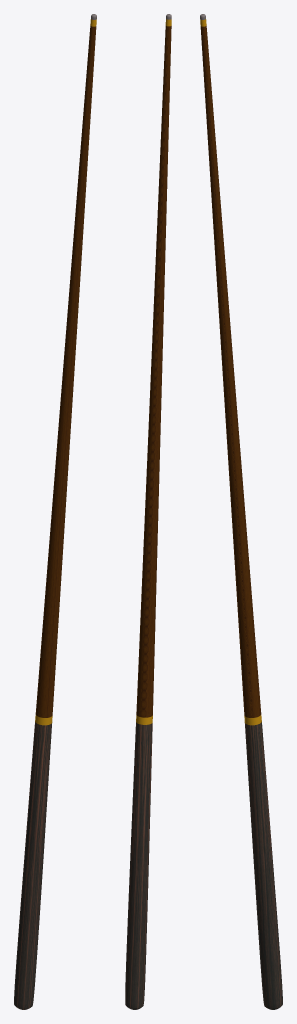
The model's file is stick.fbx.
The picture shows the model from 3 angles, left to right: view 1: azimuth 90°, elevation 25°; view 2: azimuth 150°, elevation 25°; view 3: azimuth 270°, elevation 25°; orthographic projection. The views are drawn at different scales.
Parts seen in each view (by area): view 1: polySurface64, polySurface61; view 2: polySurface64, polySurface61; view 3: polySurface64, polySurface61.
Boxes of the visible parts, <box> form: polySurface64: <box>35,26,96,717</box>; polySurface61: <box>14,722,51,1009</box>; polySurface64: <box>136,26,171,717</box>; polySurface61: <box>125,722,152,1009</box>; polySurface64: <box>200,26,261,717</box>; polySurface61: <box>245,722,282,1009</box>.
Size of the model in its own units: 6.41 by 346 by 26.17.
